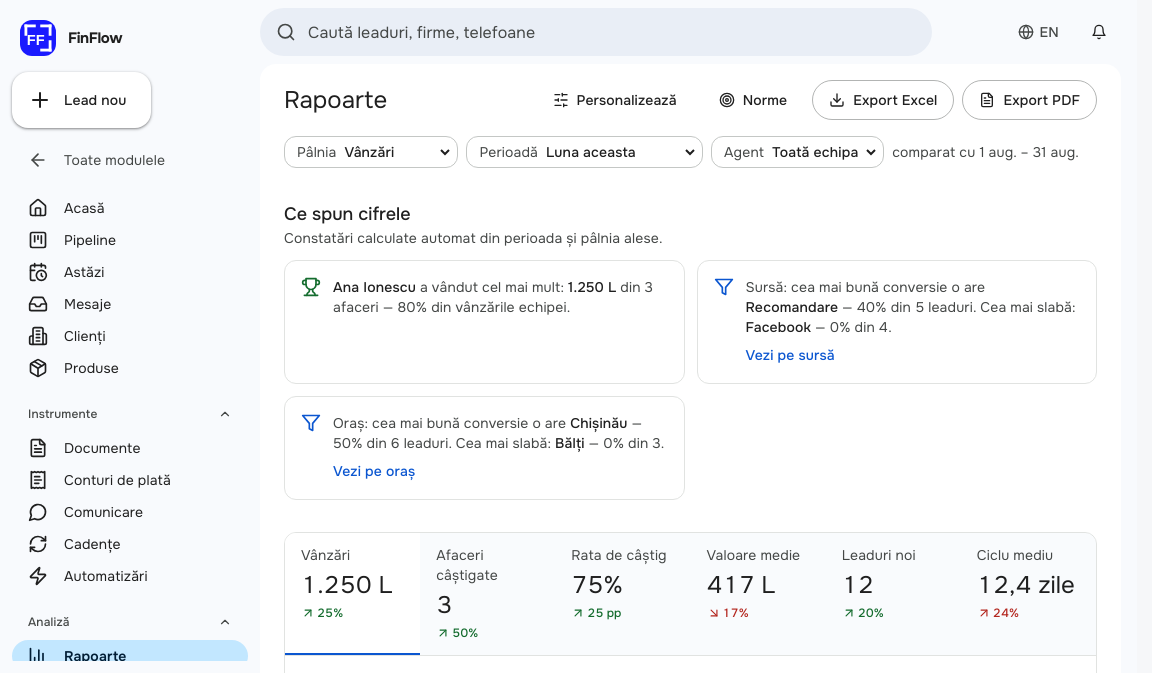
Test: CRM-G09 — pâlnia desenată, insighturi, personalizare › [blocant] „Vezi pe oraș” comută raportul pe segment și salvează alegerea
Click the button "Vezi pe oraș" at (374, 471), box x1=333 y1=461 x2=415 y2=481
(page scrolled)
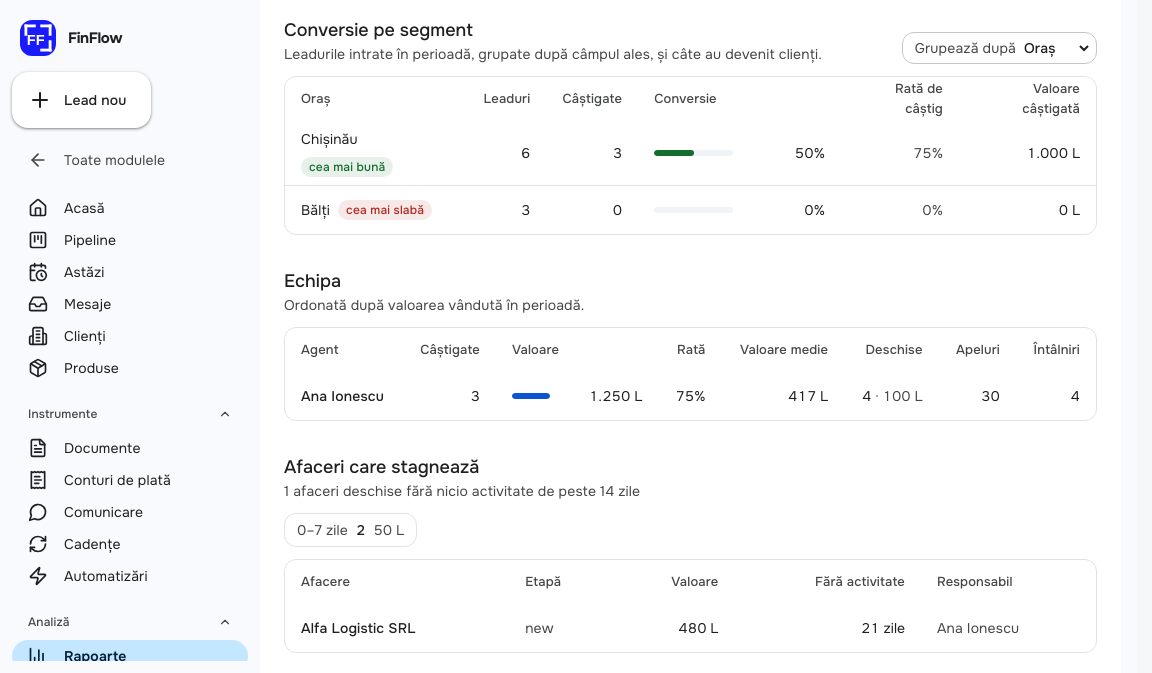
Expected: the table named "Conversie pe oraș" shows "cea mai bună", x1=309 y1=159 x2=385 y2=175
Now the table named "Conversie pe oraș" shows "Chișinău", box x1=301 y1=130 x2=358 y2=148
